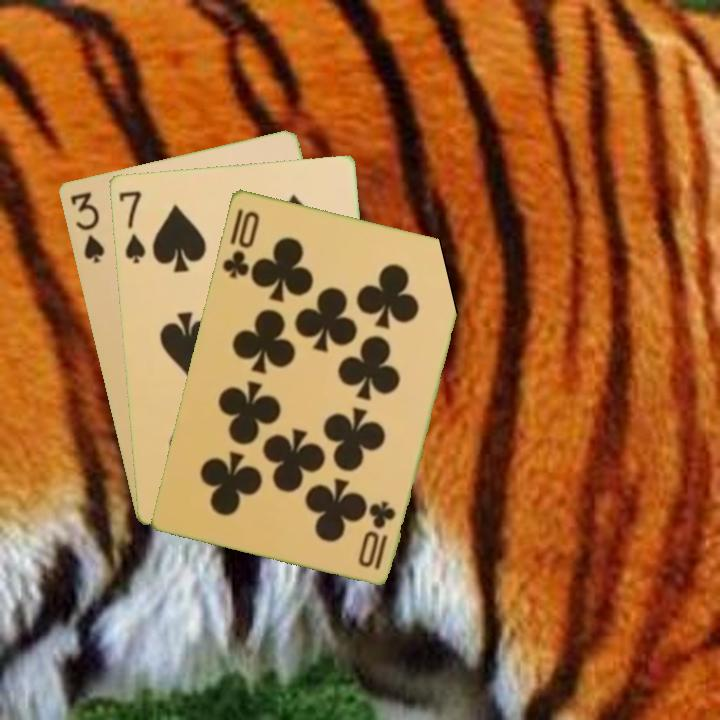10c: (218, 207, 262, 281), (367, 497, 399, 572)
3s: (66, 188, 107, 266)
7s: (115, 187, 148, 266)
